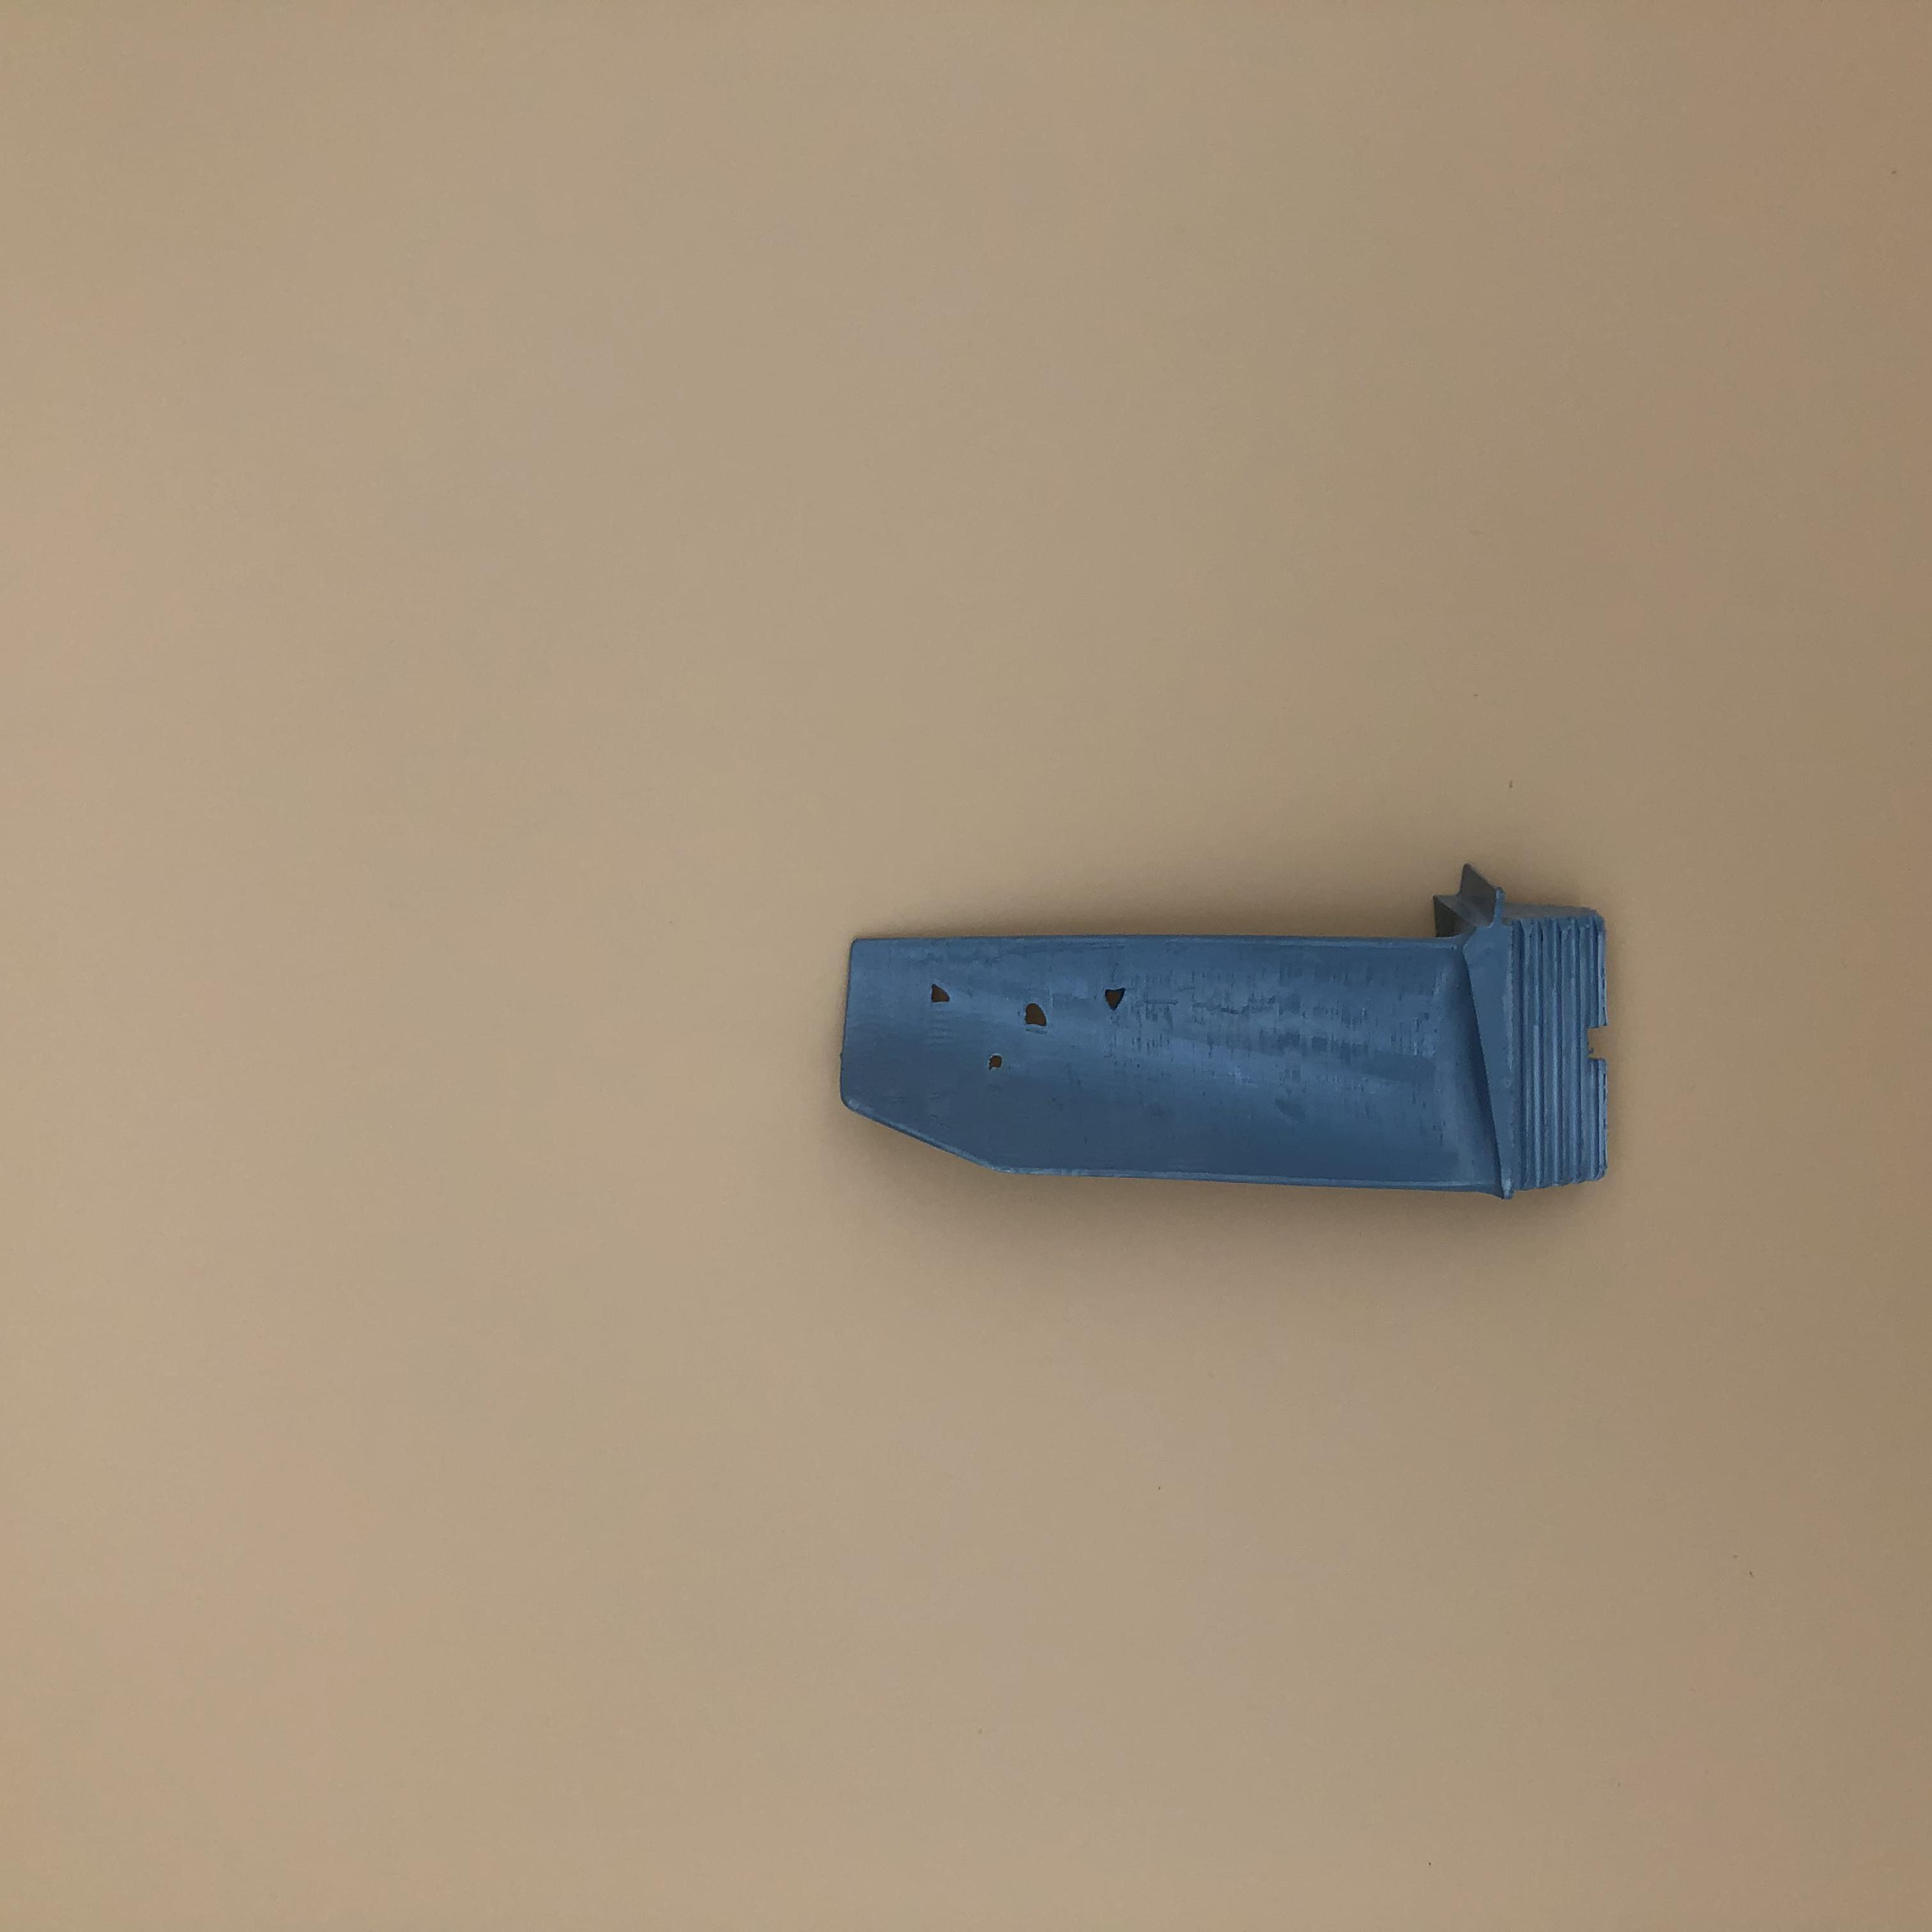breakdown: (931, 982, 1141, 1069)
